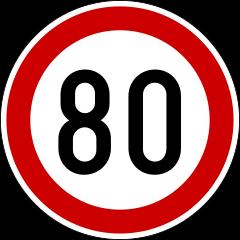Speed Limit -80-: (45, 56, 198, 185)
